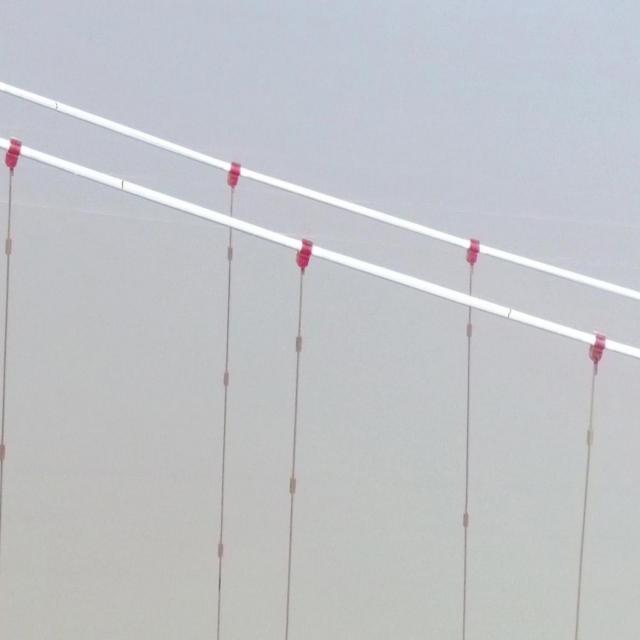crack: (507, 309, 512, 319), (54, 102, 59, 110), (120, 180, 124, 190)
